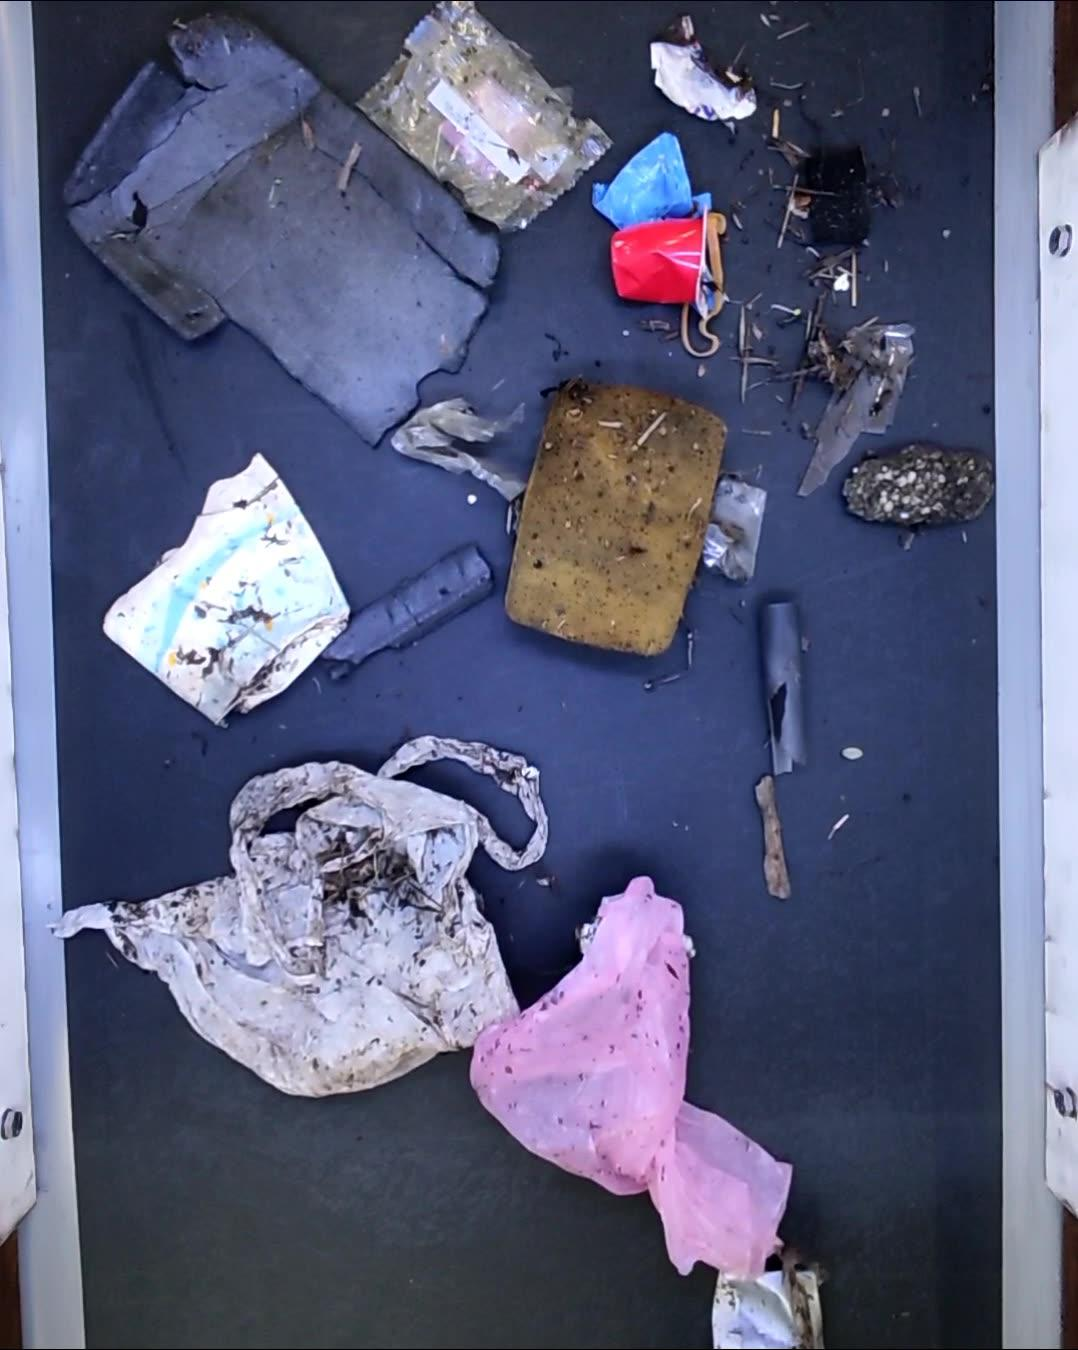Plastic folies of stukken daarvan 2.5- 50 cm: (798, 320, 919, 498), (389, 399, 530, 497), (591, 132, 707, 223), (702, 476, 770, 583)
Snoep snack en chips verpakkingen: (361, 0, 609, 229), (648, 20, 756, 132)
Voedselverpakkingen: (610, 212, 721, 315)
